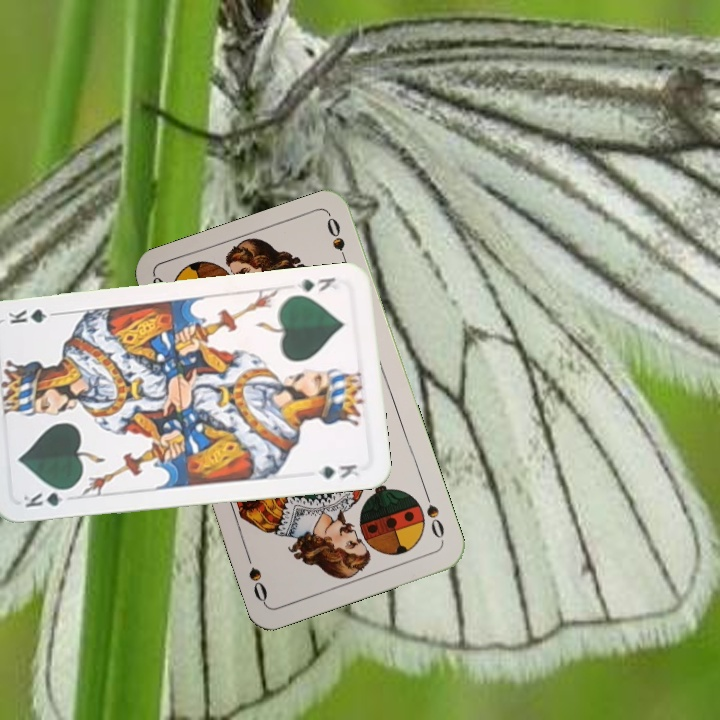GK: (19, 484, 76, 511), (292, 273, 338, 294)
SO: (420, 487, 447, 541)
